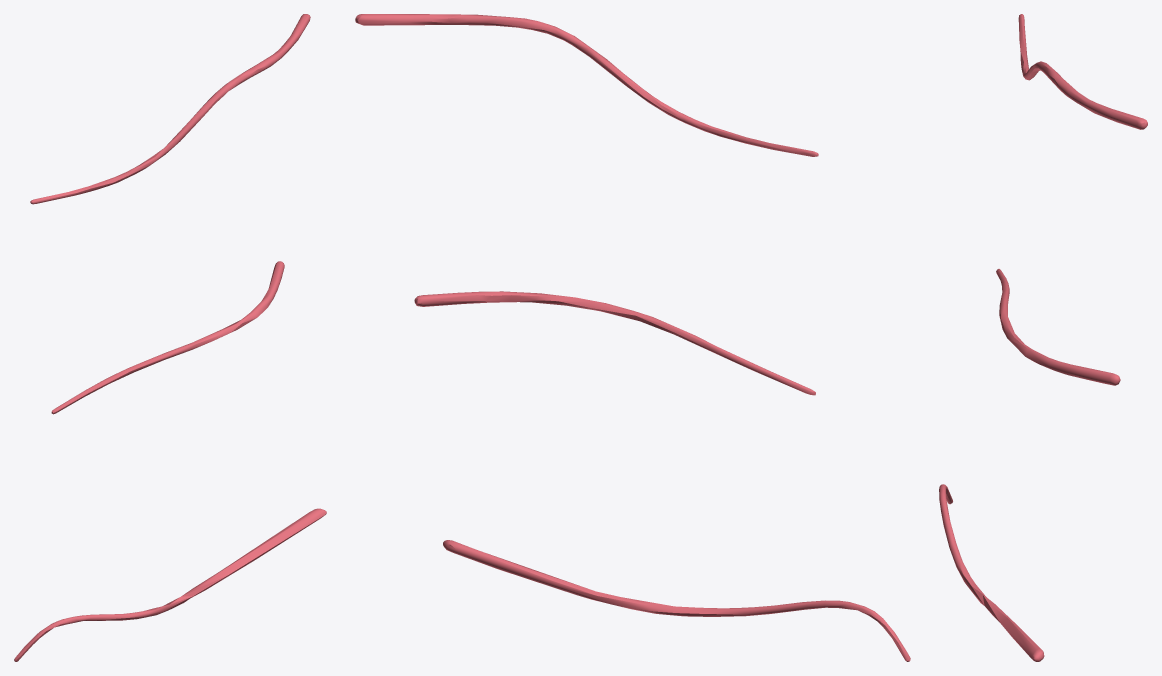
File: fma4149_fj1934.glb
3 renders of one model, left to right at view 1: azimuth 30°, elevation 25°; view 2: azimuth 150°, elevation 25°; view 3: azimuth 270°, elevation 25°, orthographic. The views are drawn at different scales.
Visible parts, largest first — view 1: FMA4149_FJ1934; view 2: FMA4149_FJ1934; view 3: FMA4149_FJ1934.
Boxes of the visible parts, left/top/right/bottom form: FMA4149_FJ1934: left=14, top=14, right=326, bottom=661; FMA4149_FJ1934: left=355, top=14, right=910, bottom=661; FMA4149_FJ1934: left=939, top=14, right=1147, bottom=661.
Bounding box in the file's own units: 0.0422 × 0.0536 × 0.0169.
